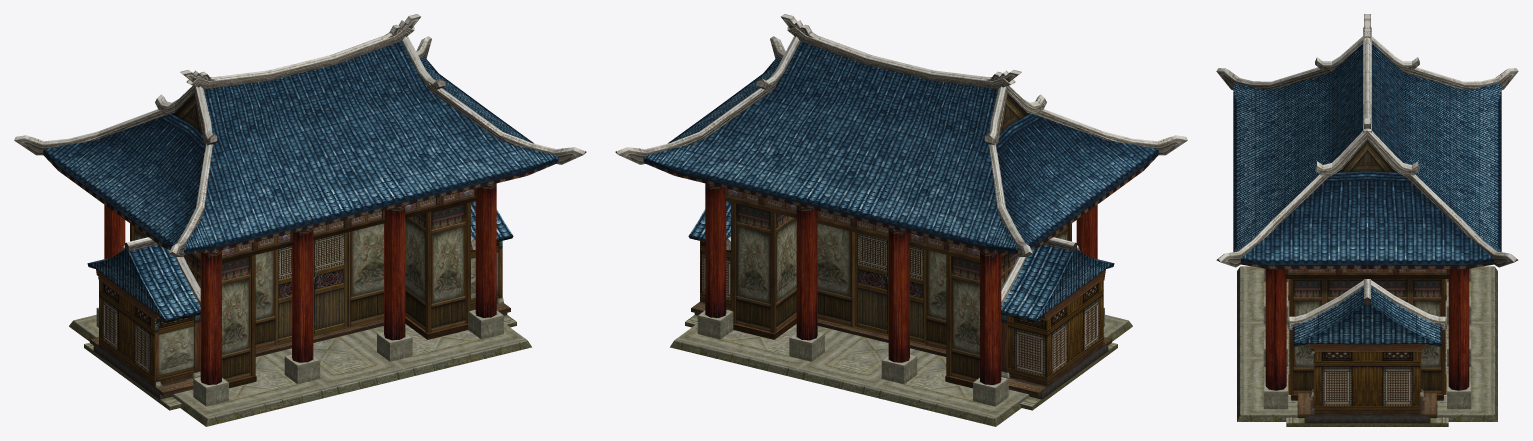
The model's file is secret_door_03.fbx.
3 renders of one model, left to right at view 1: azimuth 30°, elevation 25°; view 2: azimuth 150°, elevation 25°; view 3: azimuth 270°, elevation 25°, orthographic. The views are drawn at different scales.
Parts seen in each view (by area): view 1: secret_door_03; view 2: secret_door_03; view 3: secret_door_03.
Part boxes in pixels (x1,y1,x2,y2): secret_door_03: (14, 14, 586, 426); secret_door_03: (615, 14, 1187, 426); secret_door_03: (1216, 14, 1518, 426).
Size of the model in its own units: 36.1 by 24.14 by 23.83.
